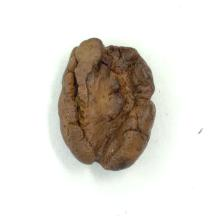NG: (58, 38, 155, 170)
